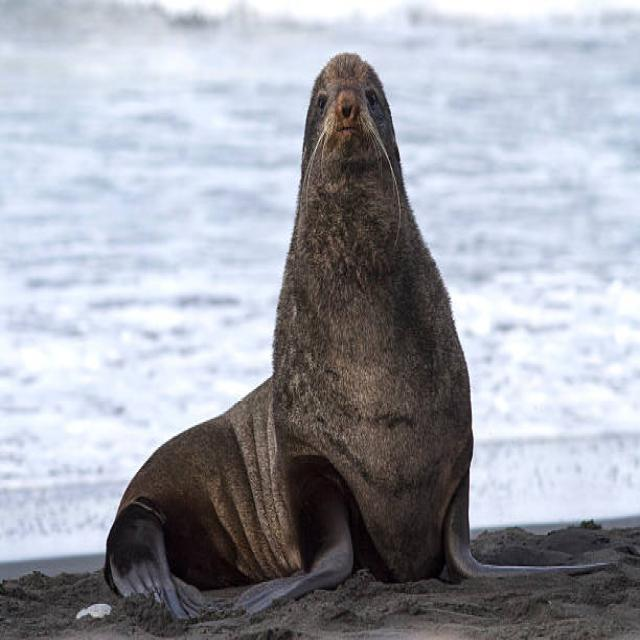WaterDog: (105, 40, 482, 621)
